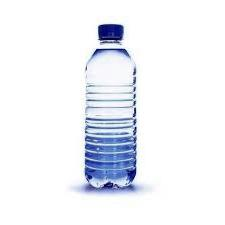Plastic: (83, 24, 137, 189)
